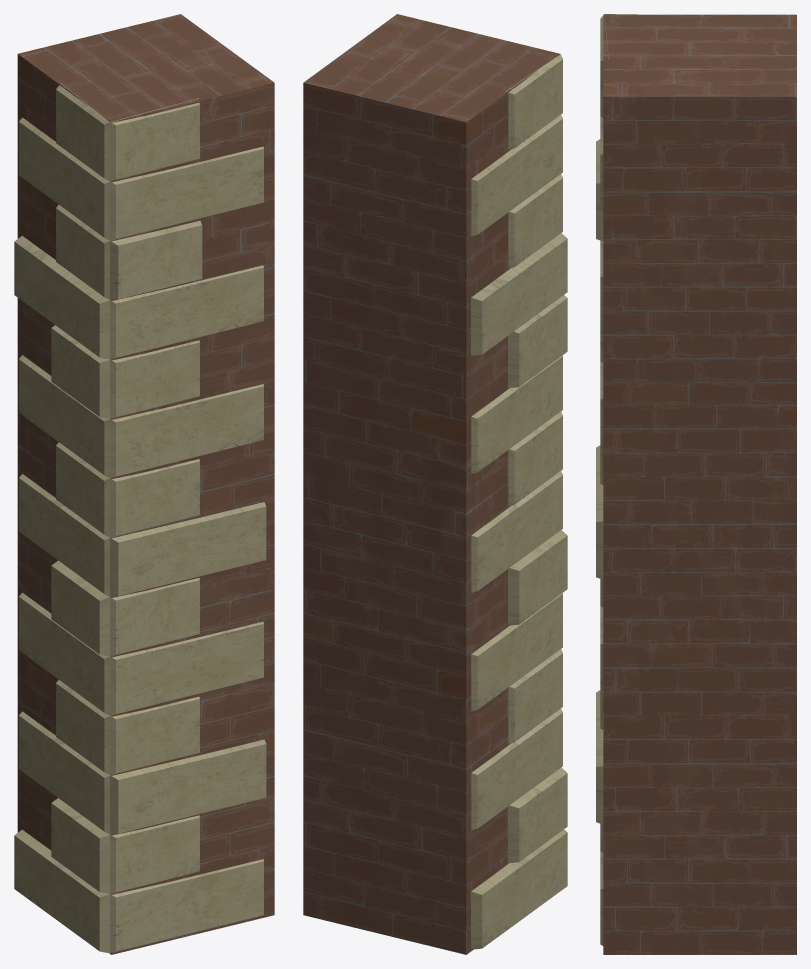
File: Brick_Column_TrimBricks.gltf
3 renders of one model, left to right at view 1: azimuth 30°, elevation 25°; view 2: azimuth 150°, elevation 25°; view 3: azimuth 270°, elevation 25°, orthographic. The views are drawn at different scales.
Visible parts, largest first — view 1: Brick_Column_TrimBricks; view 2: Brick_Column_TrimBricks; view 3: Brick_Column_TrimBricks.
Boxes of the visible parts, x1=… form: Brick_Column_TrimBricks: x1=14, y1=14, x2=274, y2=954; Brick_Column_TrimBricks: x1=303, y1=14, x2=567, y2=954; Brick_Column_TrimBricks: x1=596, y1=14, x2=796, y2=954.
Size of the model in its own units: 0.6515 by 3 by 0.6359.
2 materials, 2 textured.
